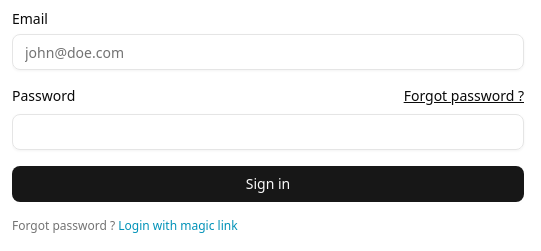
Test case: SignInCredentialsAndMagicLinkForm › should switch to magic link mode when clicking the link
This screenshot has width=541, height=251.
Check: the password field labelled "Password" is shown, box [12,114,524,150]
// Click to switch to magic link mode
Click the button "Login with magic link". click: (178, 226)
box: [118,218,238,234]
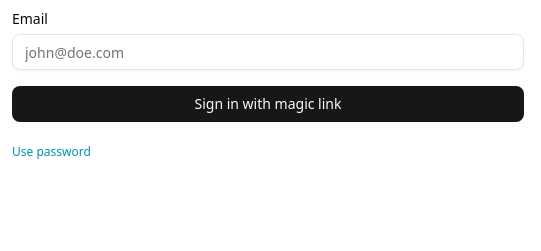
Check: the button "Sign in with magic link" is shown, box [12,86,524,122]
Check: the button "Use password" is shown, box [12,144,91,160]
